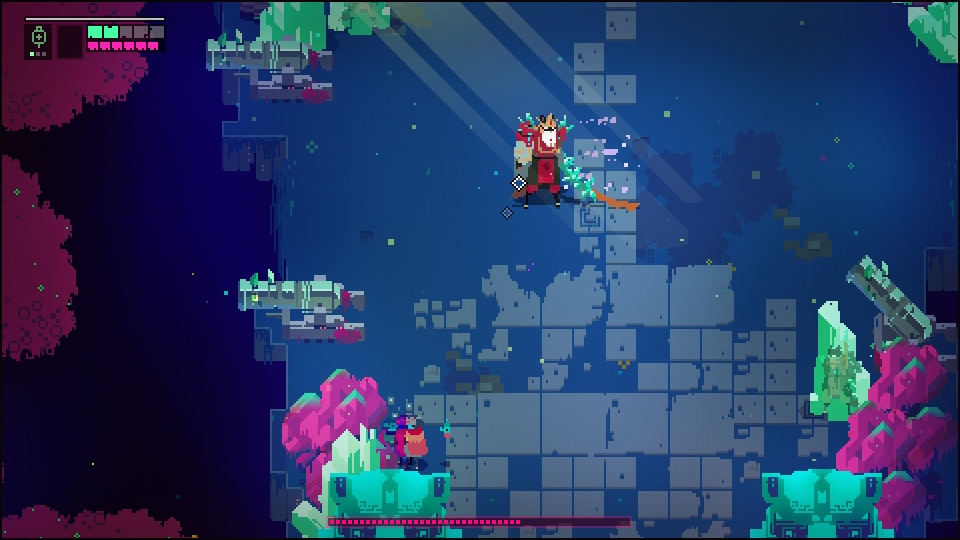hanged_man: (508, 108, 603, 213)
player: (402, 412, 431, 469)
